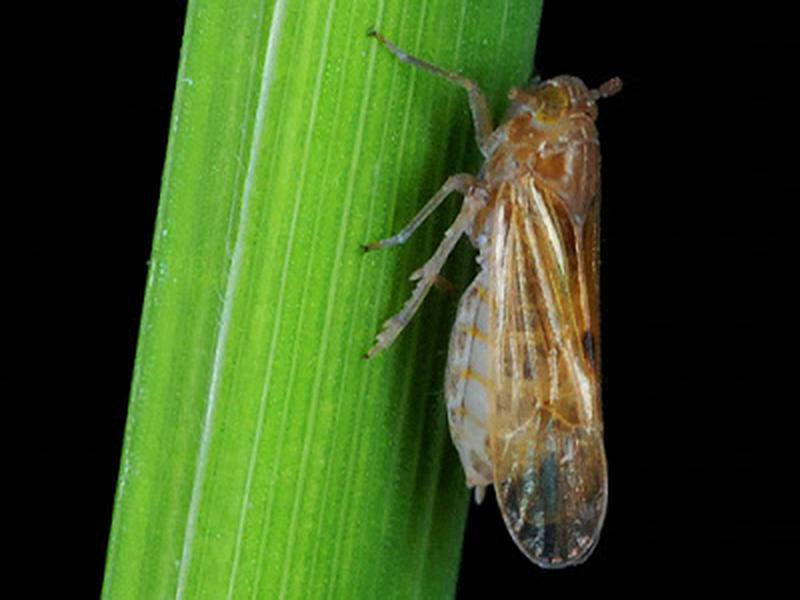Rice_case_worm: (370, 41, 665, 575)
